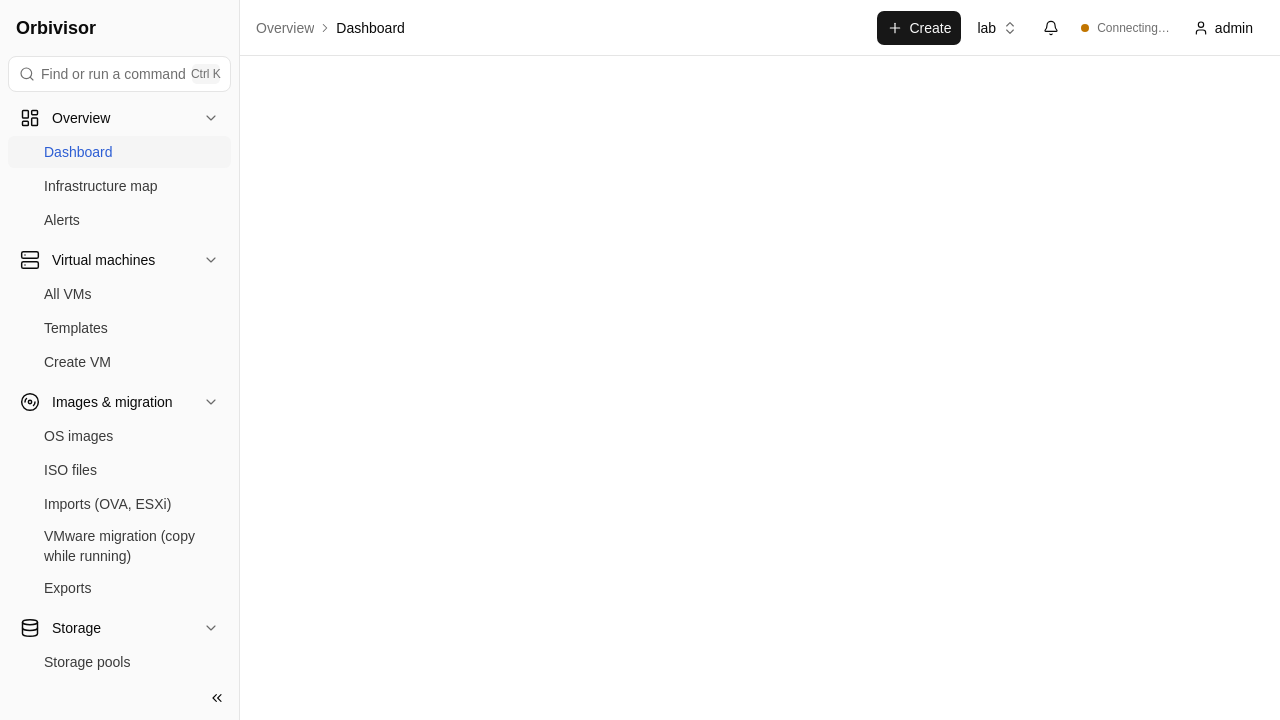
Test: opens the migrate dialog filled with the node instead of migrating
Type keys "{Meta>}k{/Meta}"
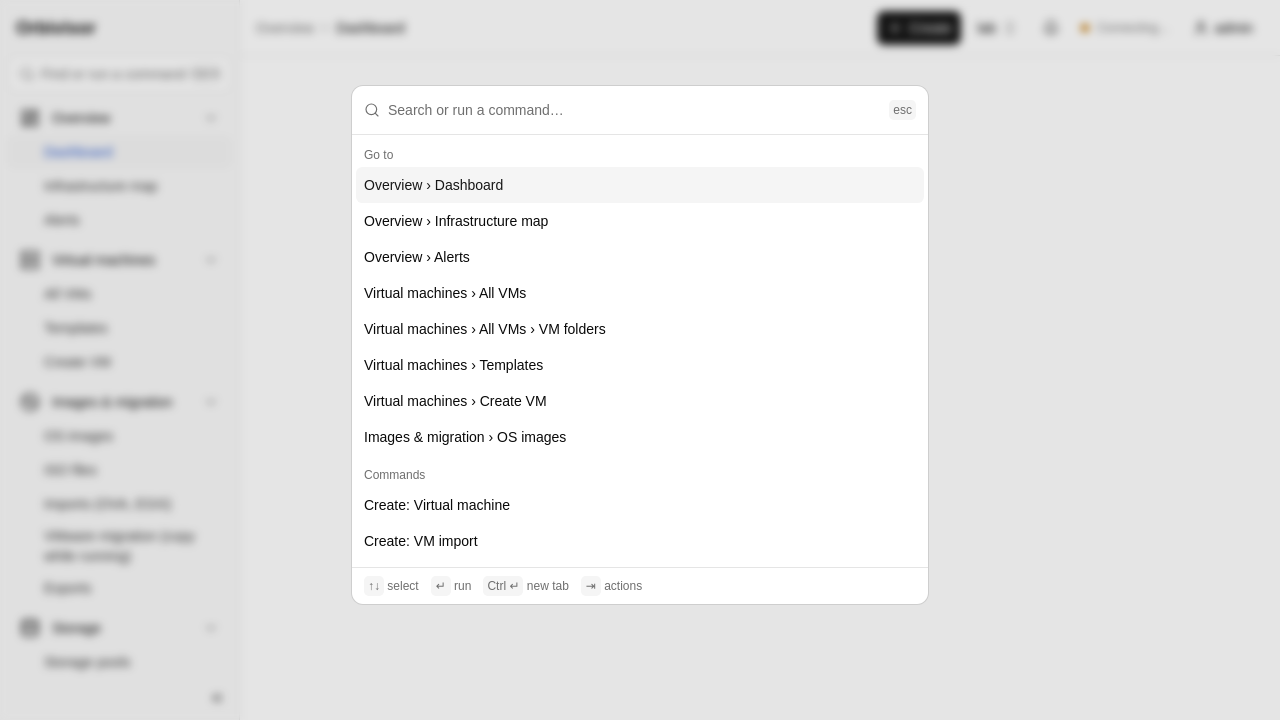
Type "migrate web to node2" into the dropdown named "Command palette" at (635, 110), box [388, 86, 881, 134]
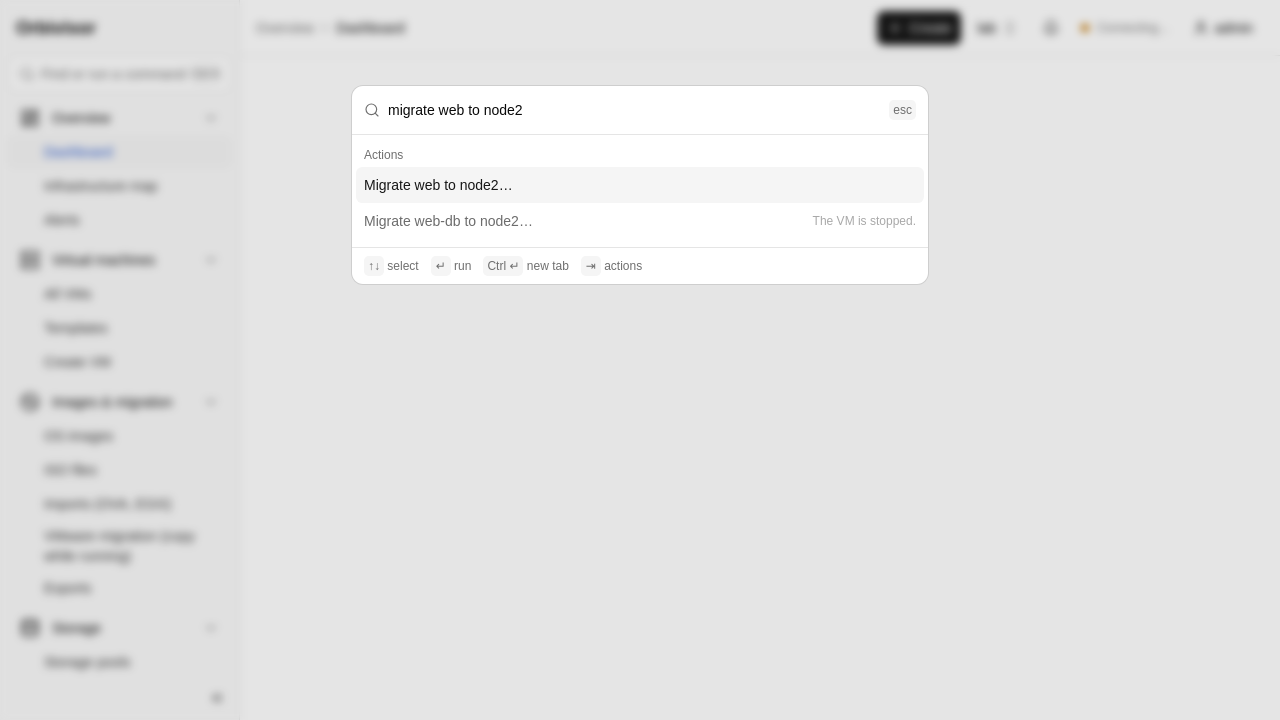
Press Enter
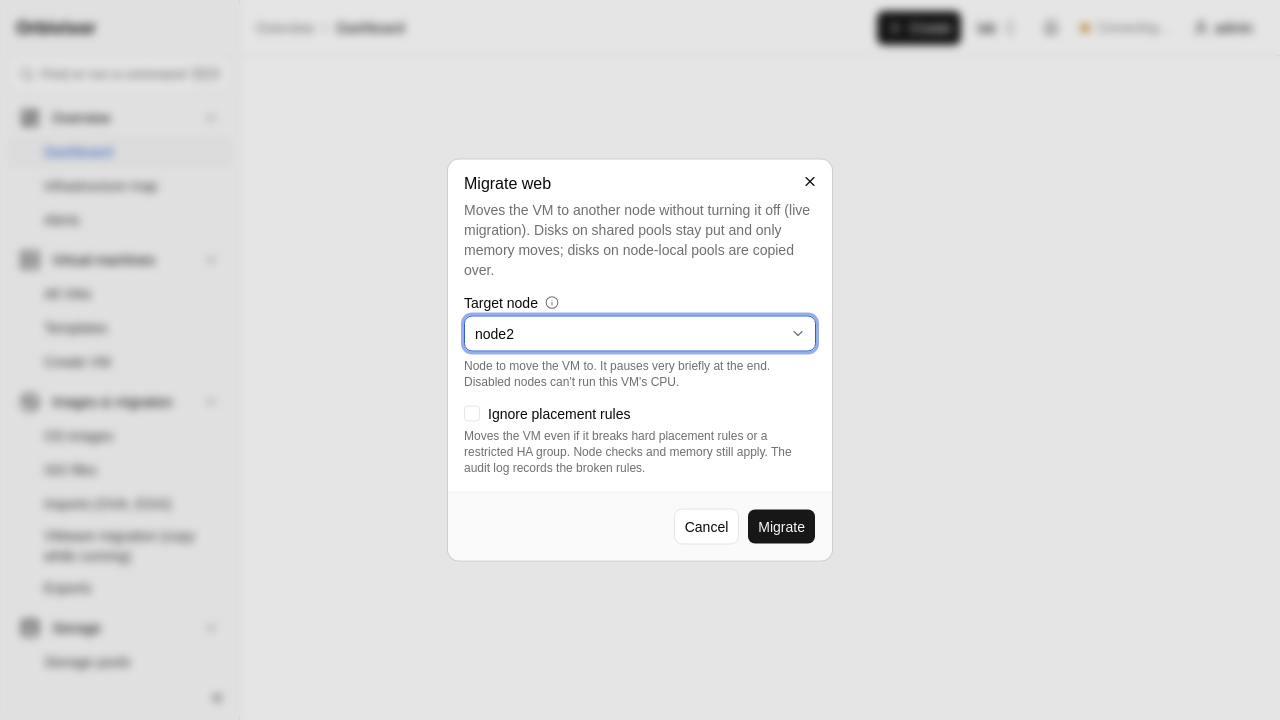
Now the dropdown labelled "Target node" shows "node2", box [464, 316, 816, 352]
